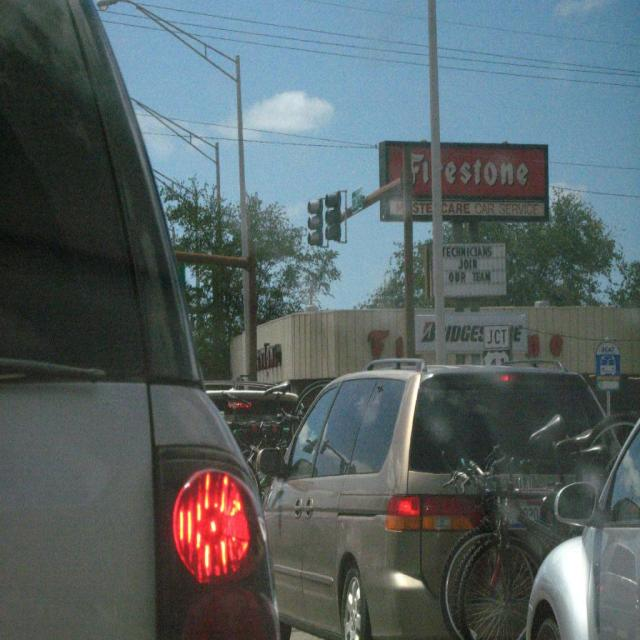car: (235, 360, 606, 638)
